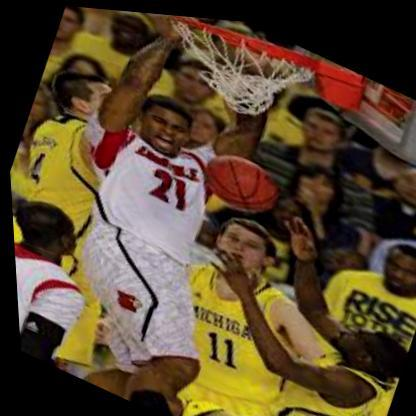basketball: (192, 135, 285, 219)
rim: (162, 11, 319, 78)
